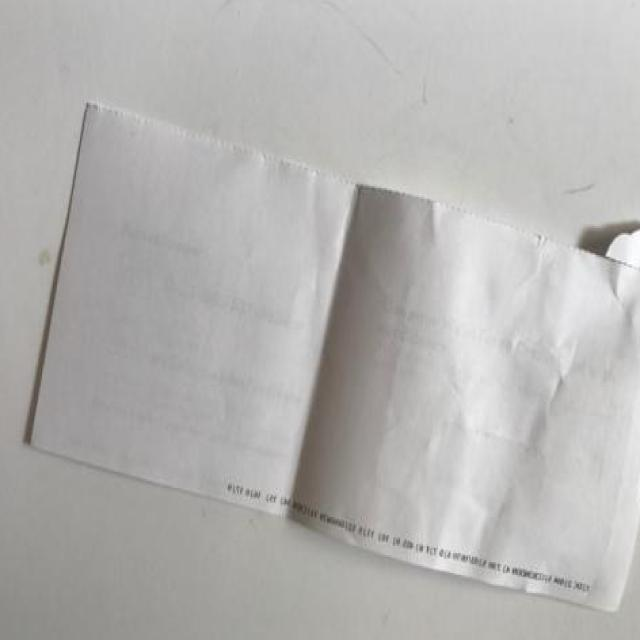kertas: (27, 102, 640, 615)
